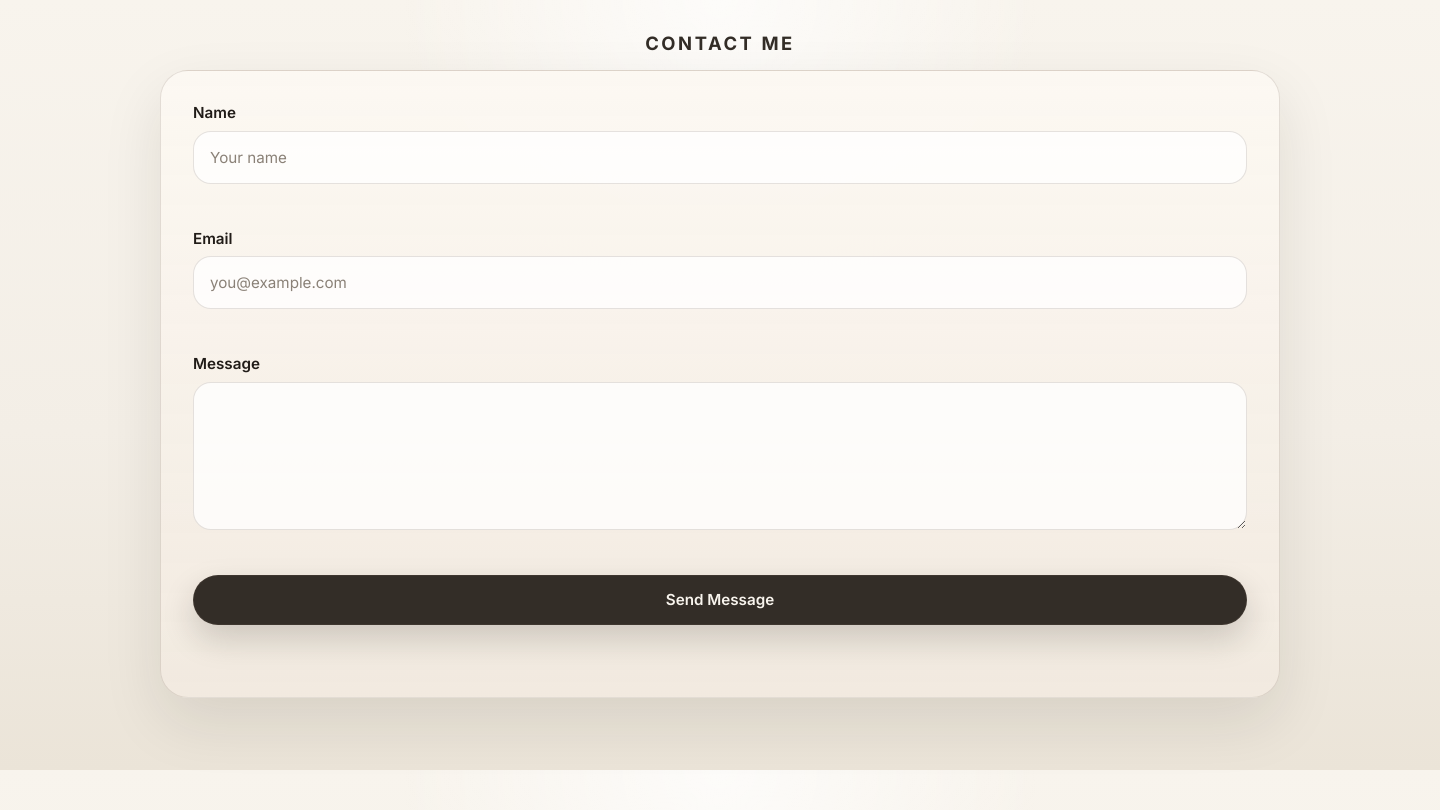
it: ContactForm › should show an error message when the submission fails
The image size is (1440, 810).
Type "Fadma" into the field labelled "Name" at (720, 157), box top-left (193, 131), bottom-right (1247, 184)
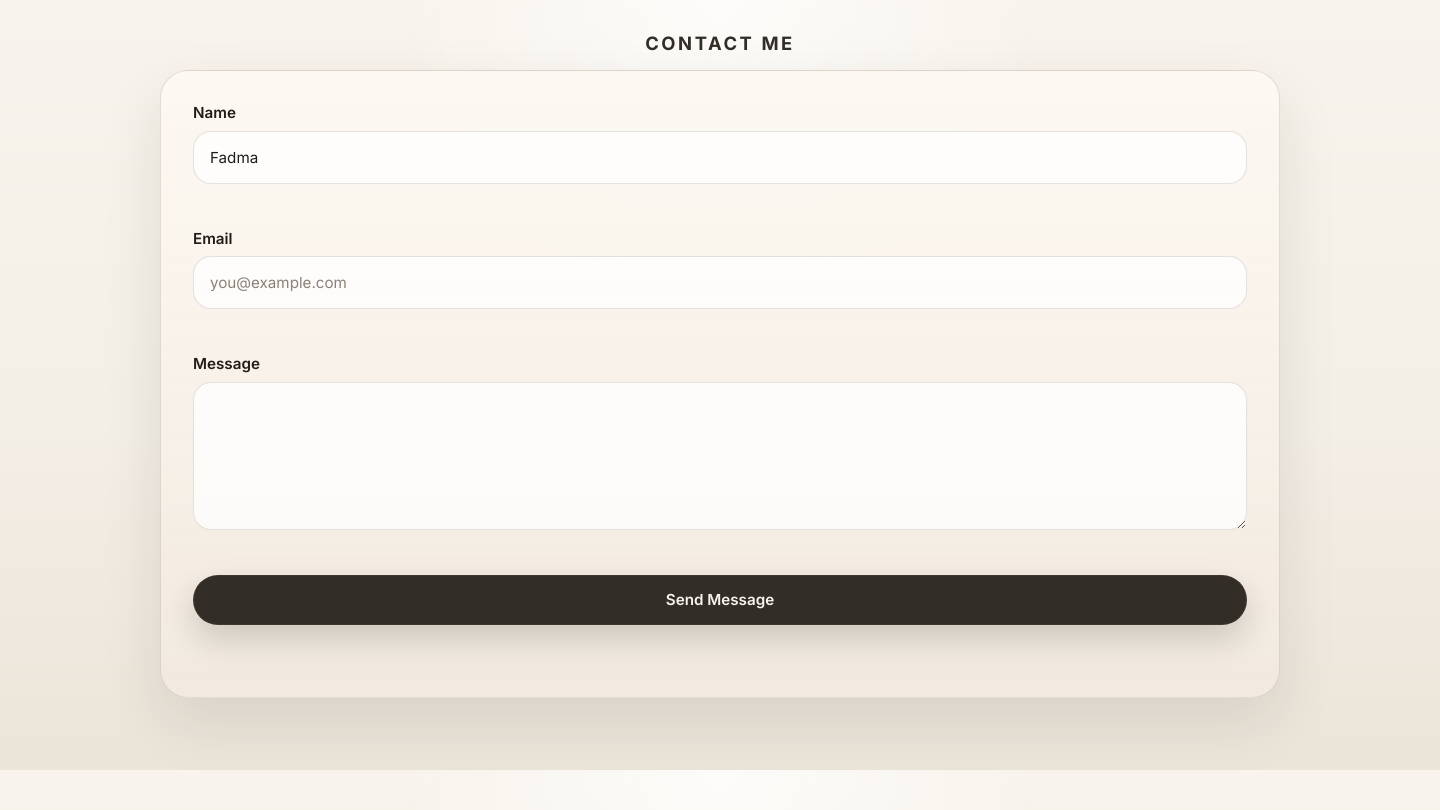
Type "fadma@example.com" into the field labelled "Email" at (720, 283), box top-left (193, 256), bottom-right (1247, 309)
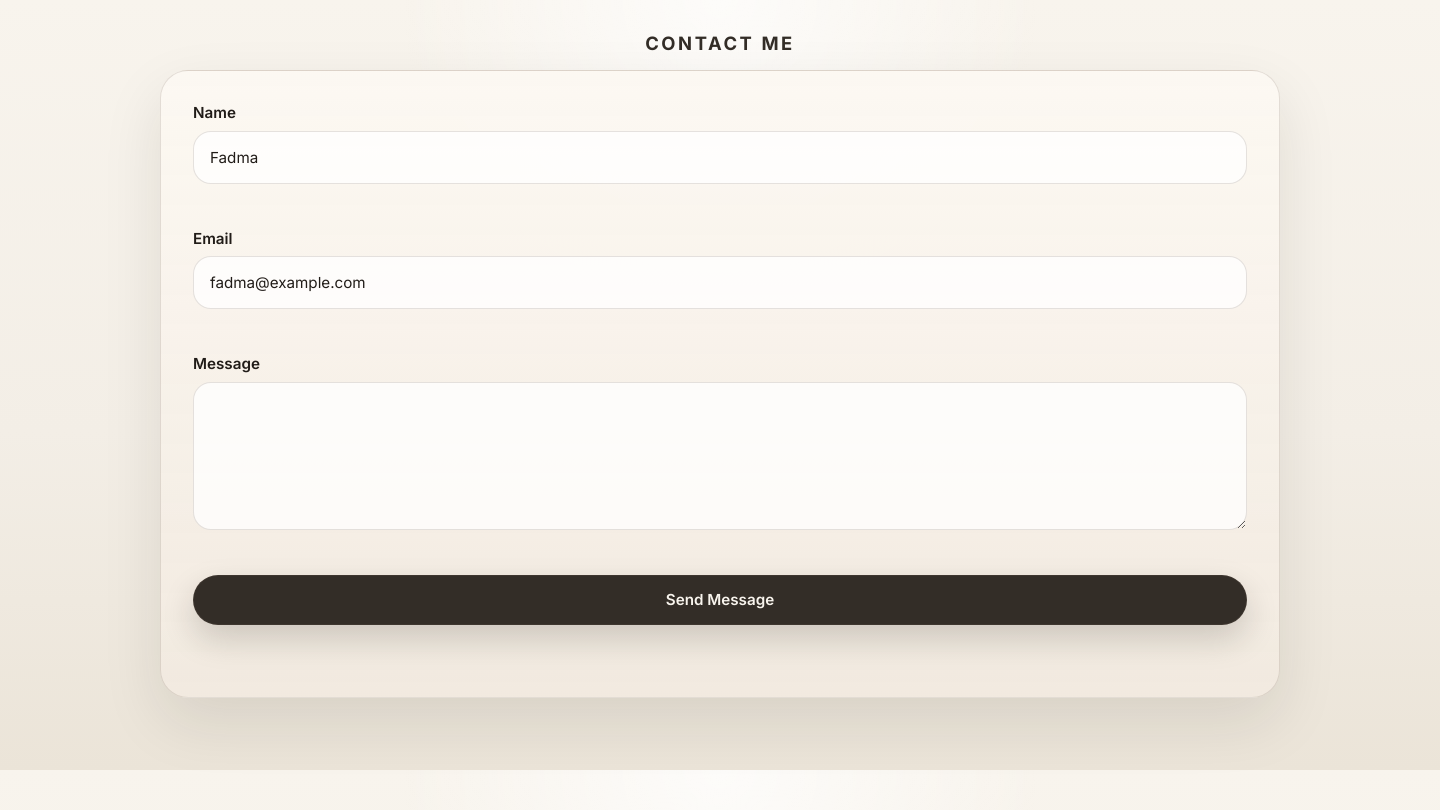
Type "I'd like to discuss a new build for a healthcare team." into the text box labelled "Message" at (720, 456), box top-left (193, 382), bottom-right (1247, 530)
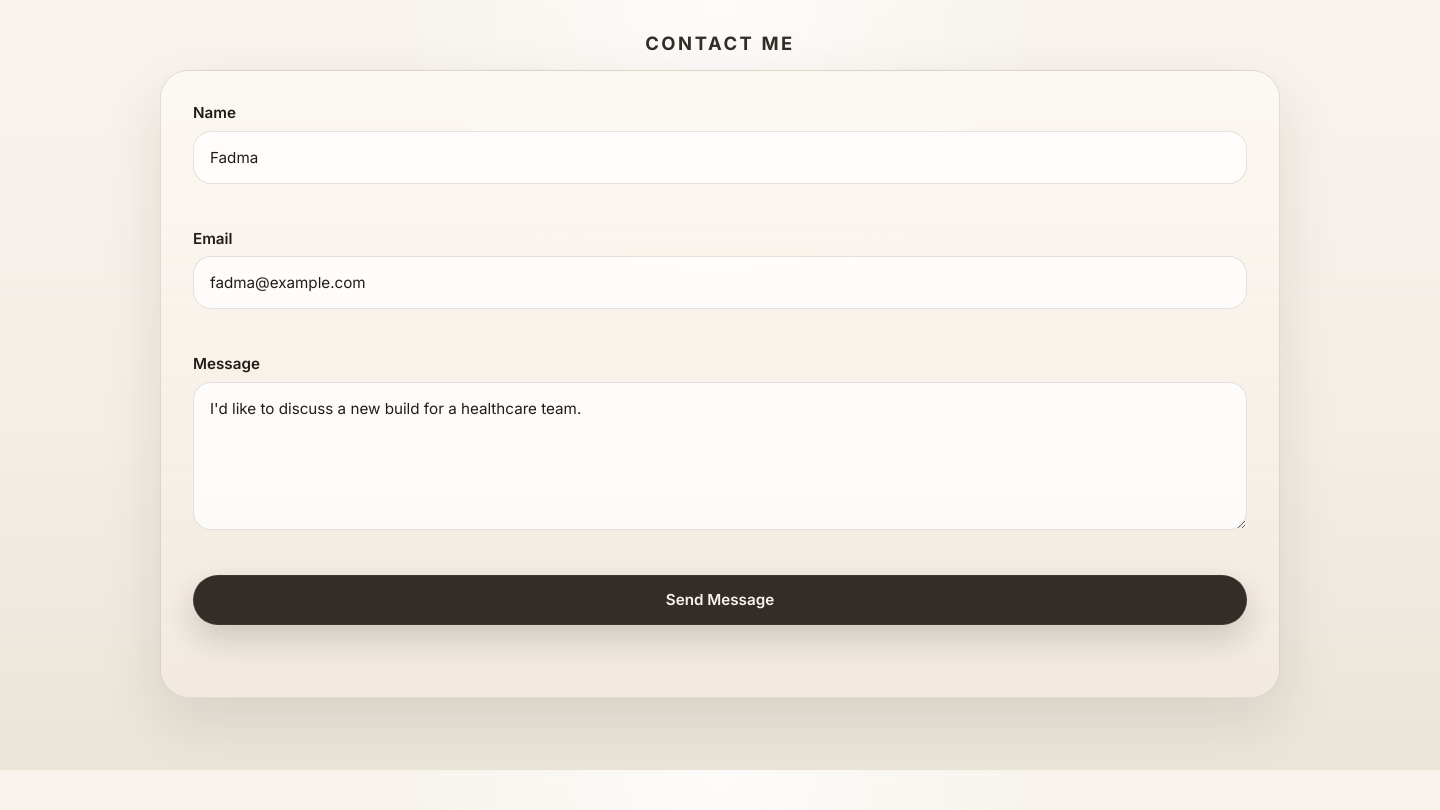
Click the button "Send Message" at (720, 600), box top-left (193, 575), bottom-right (1247, 625)
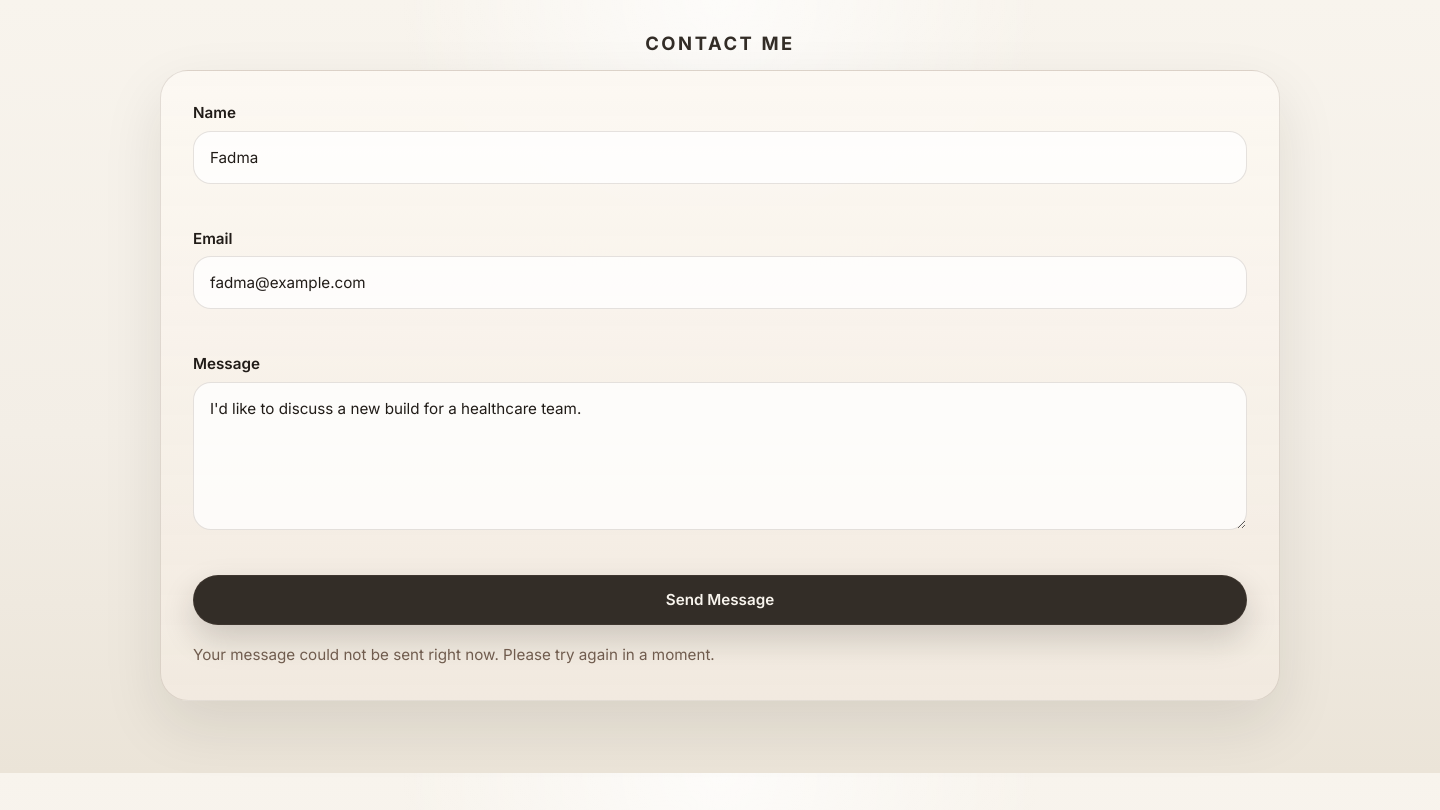
Check: the text "Your message could not be sent right now. Please try again in a moment." is shown, box top-left (193, 645), bottom-right (715, 664)
